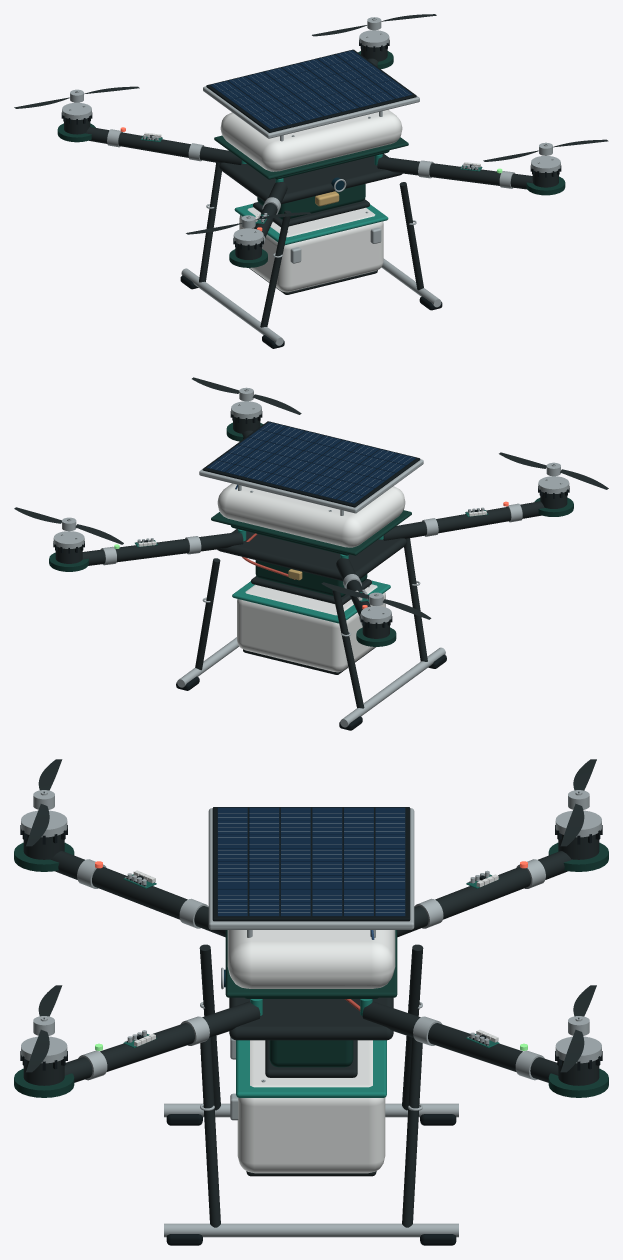
File: 绿航智递_太阳能辅助无人机.glb
3 views of the same model, one above another, from view 1: azimuth 30°, elevation 25°; view 2: azimuth 150°, elevation 25°; view 3: azimuth 270°, elevation 25° (orthographic). The views are drawn at different scales.
Visible parts, largest first — view 1: Payload_protective_case, Removable_upper_fairing, Carbon_fibre_boom (×3), CNC_lower_frame, Landing_strut (×3), PV_backplane, Landing_skid (×2), PV_aluminium_frame, Canopy_edge_seal, Payload_seal, Battery_enclosure, Rotor_bell (×2) (+1 smaller); view 2: Payload_protective_case, Removable_upper_fairing, Carbon_fibre_boom (×3), CNC_lower_frame, Landing_strut (×3), PV_backplane, Landing_skid (×2), PV_aluminium_frame, Canopy_edge_seal, Rotor_bell (×3), Battery_enclosure, Payload_seal (+1 smaller); view 3: Payload_protective_case, Carbon_fibre_boom (×4), Removable_upper_fairing, Landing_strut (×4), CNC_lower_frame, Landing_skid (×2), PV_backplane, Motor_mount (×4), Payload_seal, PV_aluminium_frame, Stator (×4), Rotor_bell (×4) (+3 smaller).
Boxes of the visible parts, x1=… form: Payload_protective_case: x1=239, y1=207, x2=383, y2=292; Removable_upper_fairing: x1=220, y1=109, x2=402, y2=171; Carbon_fibre_boom (×3): x1=85, y1=127, x2=532, y2=237; CNC_lower_frame: x1=219, y1=153, x2=402, y2=204; Landing_strut (×3): x1=199, y1=162, x2=423, y2=327; PV_backplane: x1=206, y1=49, x2=416, y2=132; Landing_skid (×2): x1=181, y1=258, x2=441, y2=345; PV_aluminium_frame: x1=203, y1=86, x2=419, y2=138; Canopy_edge_seal: x1=214, y1=135, x2=408, y2=179; Payload_seal: x1=234, y1=203, x2=388, y2=244; Battery_enclosure: x1=257, y1=184, x2=365, y2=219; Rotor_bell (×2): x1=233, y1=30, x2=389, y2=245; Payload_protective_case: x1=237, y1=584, x2=385, y2=672; Removable_upper_fairing: x1=217, y1=483, x2=405, y2=547; Carbon_fibre_boom (×3): x1=82, y1=501, x2=544, y2=615; CNC_lower_frame: x1=217, y1=529, x2=406, y2=581; Landing_strut (×3): x1=195, y1=538, x2=427, y2=708; PV_backplane: x1=202, y1=421, x2=420, y2=507; Landing_skid (×2): x1=177, y1=637, x2=445, y2=727; PV_aluminium_frame: x1=199, y1=459, x2=423, y2=513; Canopy_edge_seal: x1=211, y1=510, x2=411, y2=555; Rotor_bell (×3): x1=53, y1=401, x2=569, y2=548; Battery_enclosure: x1=255, y1=560, x2=367, y2=597; Payload_seal: x1=232, y1=580, x2=390, y2=623; Payload_protective_case: x1=237, y1=1040, x2=385, y2=1173; Carbon_fibre_boom (×4): x1=50, y1=851, x2=572, y2=1082; Removable_upper_fairing: x1=227, y1=930, x2=395, y2=988; Landing_strut (×4): x1=199, y1=944, x2=423, y2=1227; CNC_lower_frame: x1=229, y1=997, x2=393, y2=1040; Landing_skid (×2): x1=164, y1=1103, x2=458, y2=1237; PV_backplane: x1=212, y1=807, x2=410, y2=921; Motor_mount (×4): x1=14, y1=842, x2=608, y2=1097; Payload_seal: x1=236, y1=1040, x2=386, y2=1097; PV_aluminium_frame: x1=208, y1=808, x2=414, y2=929; Stator (×4): x1=23, y1=834, x2=599, y2=1085; Rotor_bell (×4): x1=21, y1=810, x2=601, y2=1063.
Bounding box in the file's own units: 1.08 × 0.5165 × 0.868.
